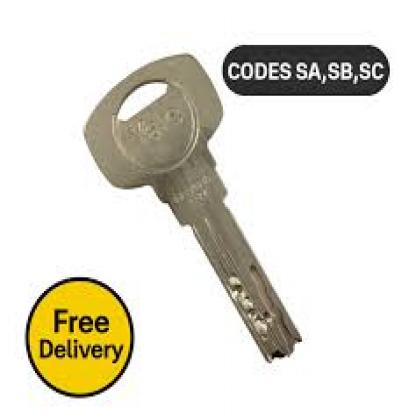key: (82, 55, 304, 359)
